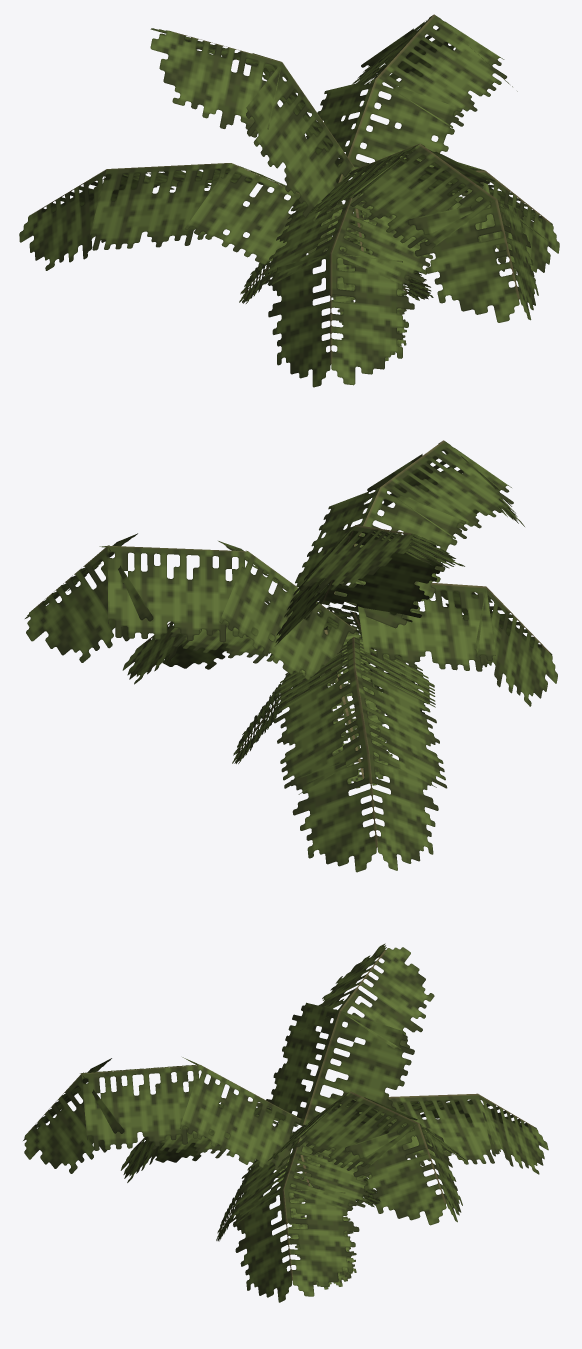
The model's file is coconut_palm_top_1.obj.
The picture shows the model from 3 angles, top to bottom: view 1: azimuth 30°, elevation 25°; view 2: azimuth 150°, elevation 25°; view 3: azimuth 270°, elevation 25°; orthographic projection. The views are drawn at different scales.
Visible parts, largest first — view 1: cube.300, cube.323, cube.299; view 2: cube.323, cube.299, cube.300; view 3: cube.299, cube.323, cube.300.
Boxes of the visible parts, bbox=[...] form: cube.300: bbox=[260, 143, 545, 387]; cube.323: bbox=[19, 28, 356, 303]; cube.299: bbox=[292, 14, 559, 300]; cube.323: bbox=[269, 525, 464, 872]; cube.299: bbox=[25, 533, 356, 763]; cube.300: bbox=[295, 440, 557, 714]; cube.299: bbox=[227, 1091, 465, 1302]; cube.323: bbox=[266, 943, 548, 1207]; cube.300: bbox=[23, 1057, 303, 1241].
Size of the model in its own units: 4.72 by 3.01 by 5.57.
